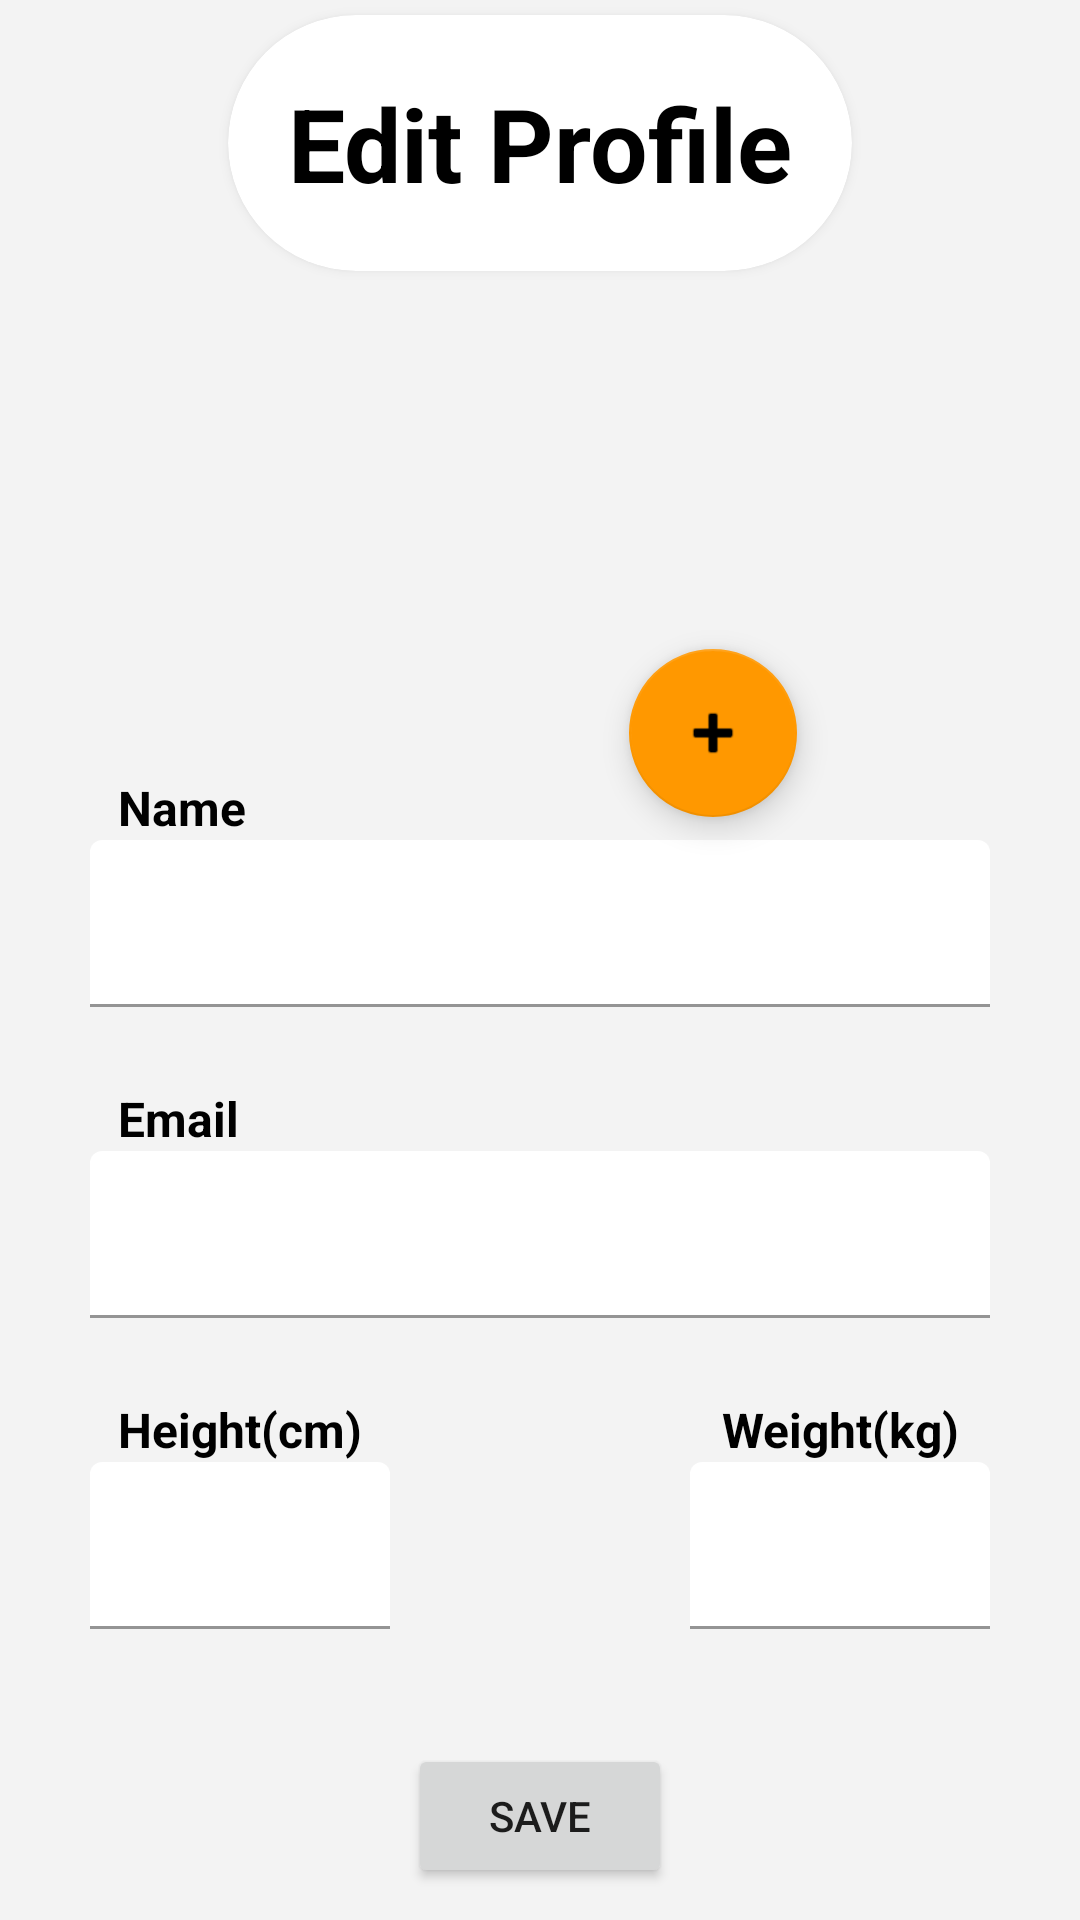

Locate icon controls on the screen. Image size 1080 × 1920, boxes as (x1, y1, x2, y2).
add: (629, 649, 797, 817)
